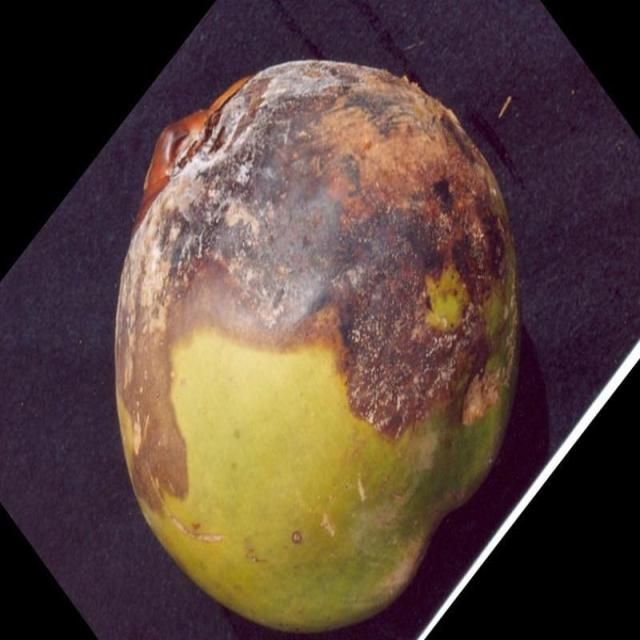damaged: (115, 61, 519, 631)
